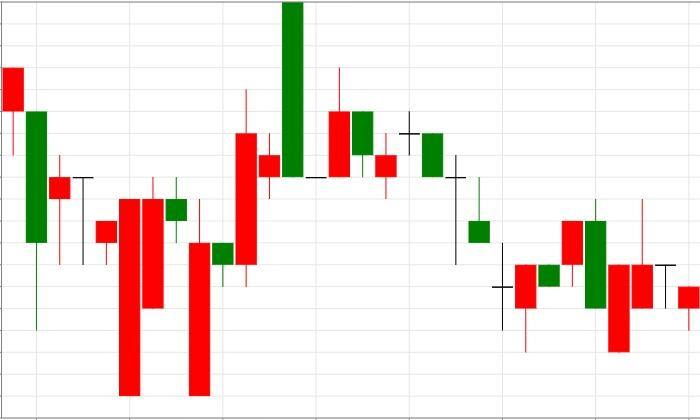bearish_engulfing_fall: (492, 198, 606, 352)
